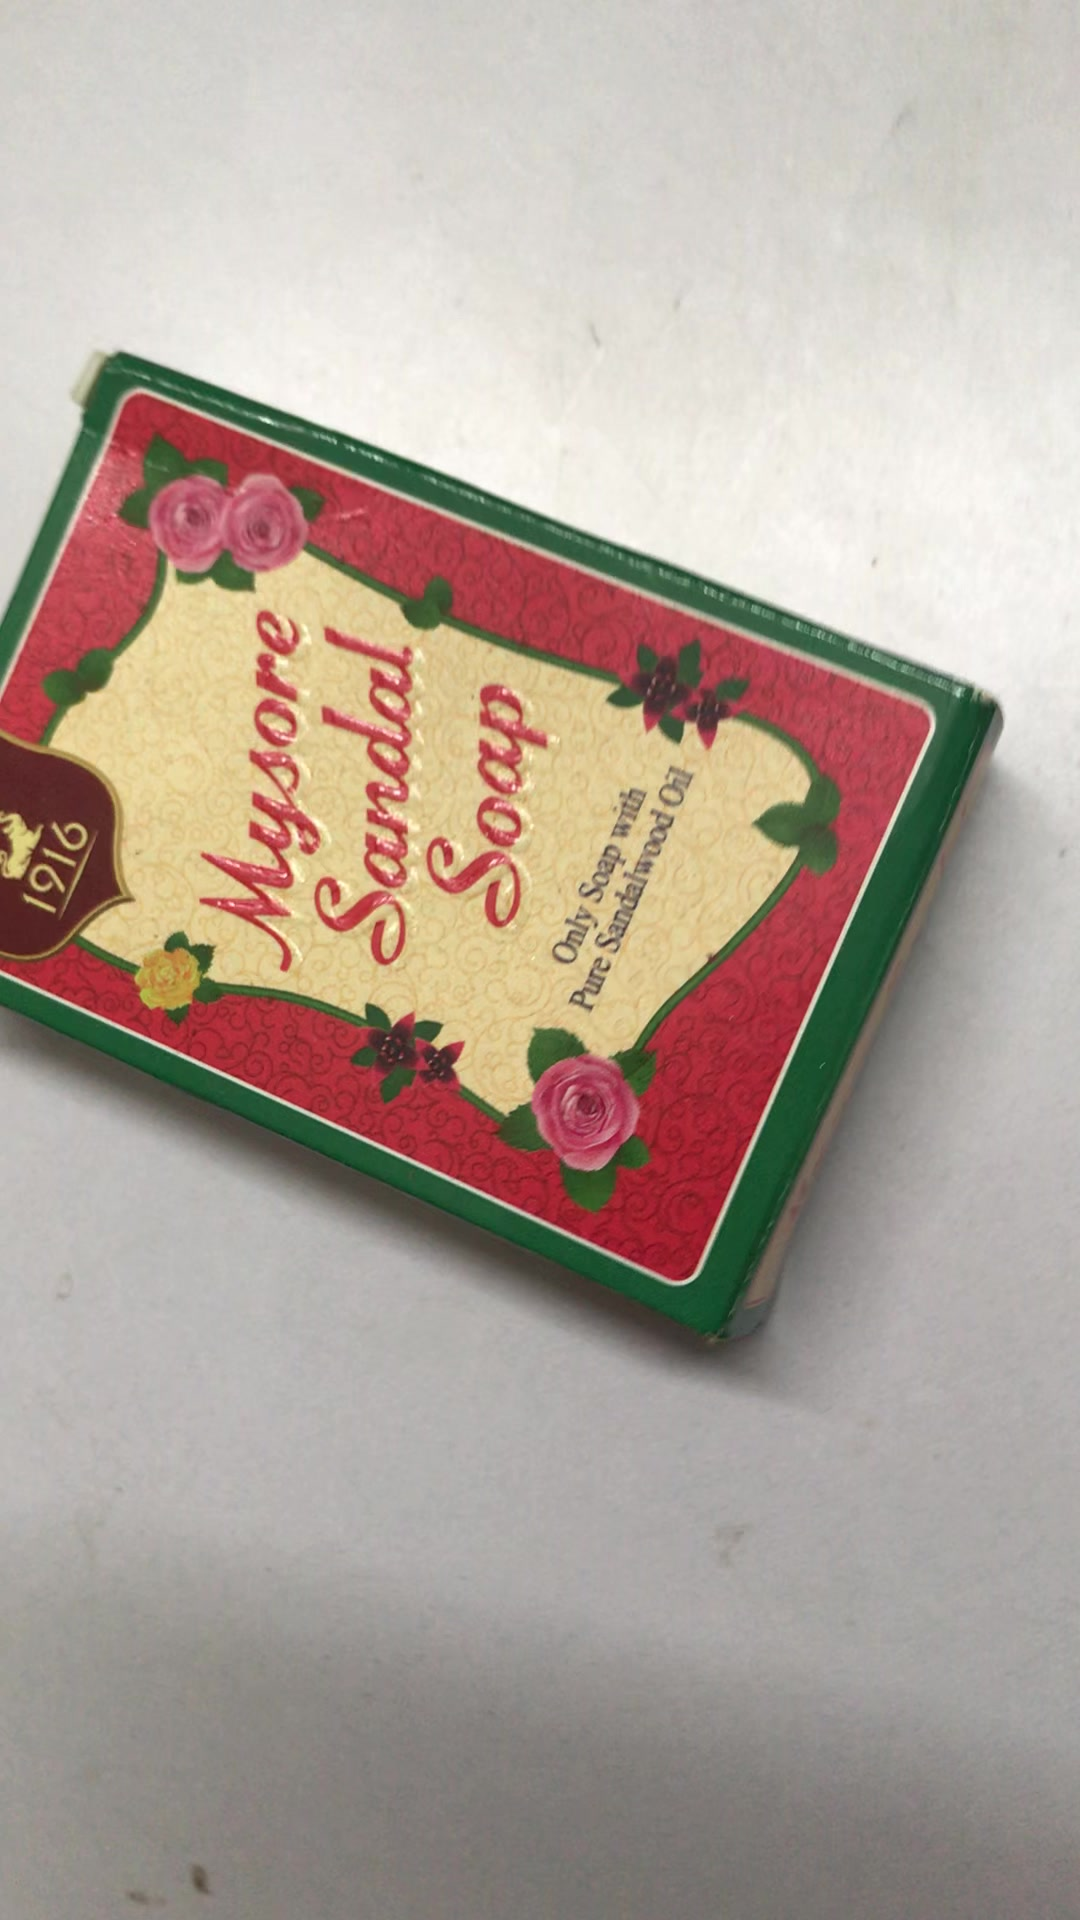mysore sandal soap: (3, 336, 1009, 1367)
